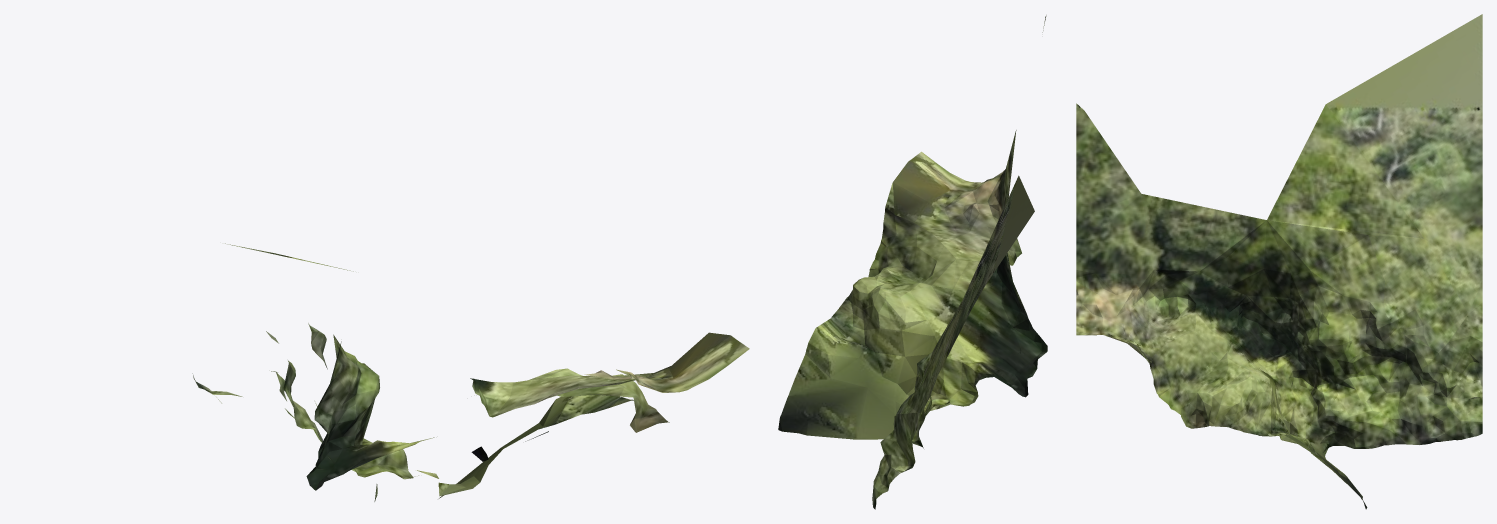
The picture shows the model from 3 angles, left to right: view 1: azimuth 30°, elevation 25°; view 2: azimuth 150°, elevation 25°; view 3: azimuth 270°, elevation 25°; orthographic projection. The views are drawn at different scales.
Size of the model in its own units: 23.59 by 24.48 by 26.11.
3 materials, 3 textured.
